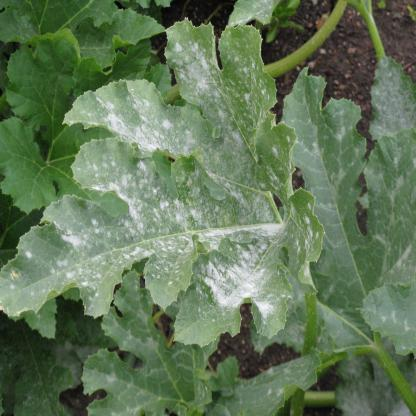Squash Powdery mildew leaf: (0, 14, 328, 347)
